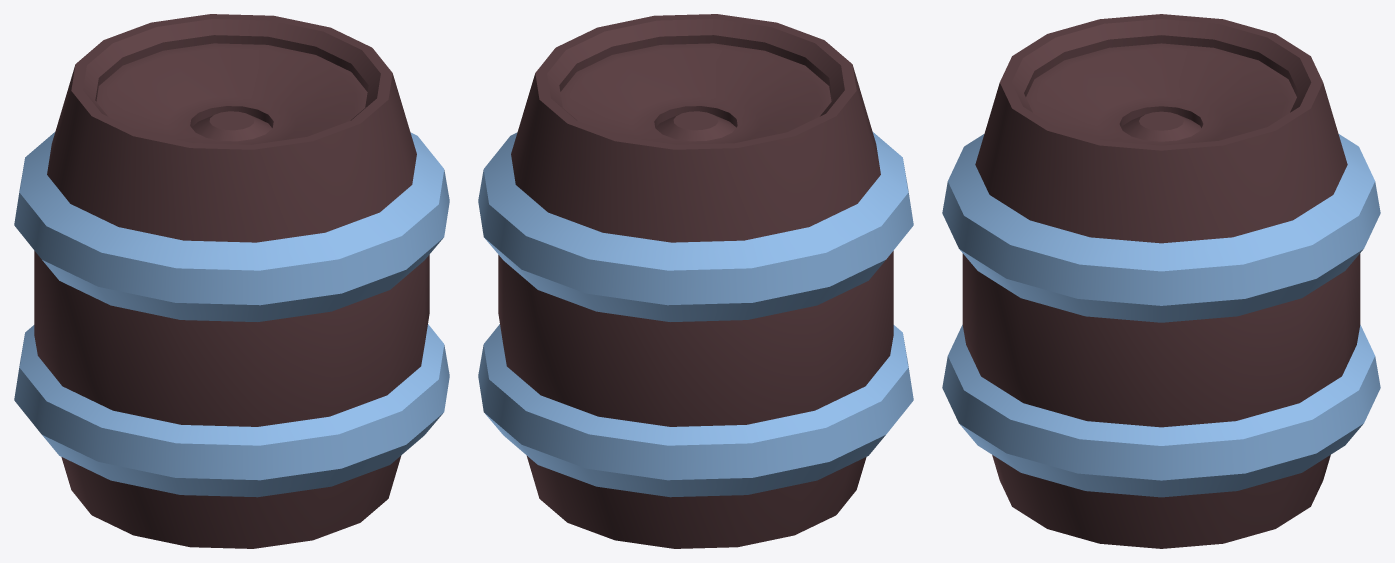
File: woodenbarrel.fbx
3 renders of one model, left to right at view 1: azimuth 30°, elevation 25°; view 2: azimuth 150°, elevation 25°; view 3: azimuth 270°, elevation 25°, orthographic.
Parts seen in each view (by area): view 1: Circle.001; view 2: Circle.001; view 3: Circle.001.
Part boxes in pixels (box(x1,y1,x2,y2)): Circle.001: box(14, 14, 449, 548); Circle.001: box(478, 14, 913, 548); Circle.001: box(942, 14, 1380, 548).
Size of the model in its own units: 1.04 by 1.04 by 1.04.
